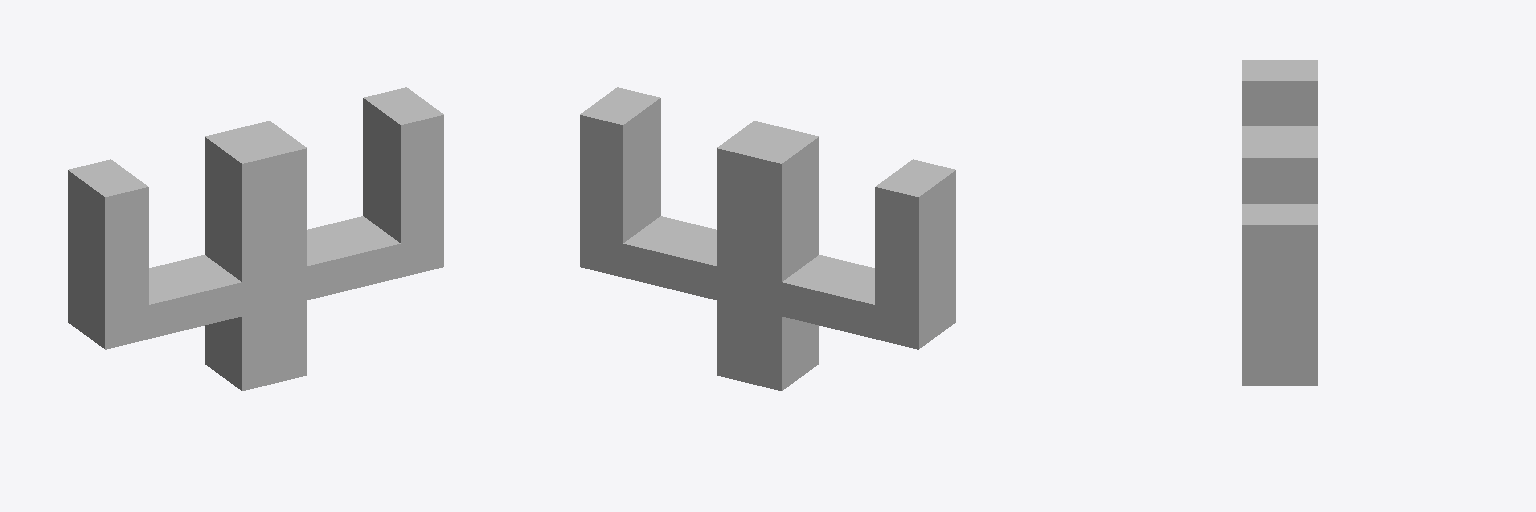
File: fork_yellow.obj
3 renders of one model, left to right at view 1: azimuth 30°, elevation 25°; view 2: azimuth 150°, elevation 25°; view 3: azimuth 270°, elevation 25°, orthographic.
Parts seen in each view (by area): view 1: Body1; view 2: Body1; view 3: Body1.
Boxes of the visible parts, <box> form: Body1: <box>68,87,443,390</box>; Body1: <box>580,87,955,390</box>; Body1: <box>1242,60,1317,385</box>.
Bounding box in the file's own units: 10.92 × 7 × 2.1.